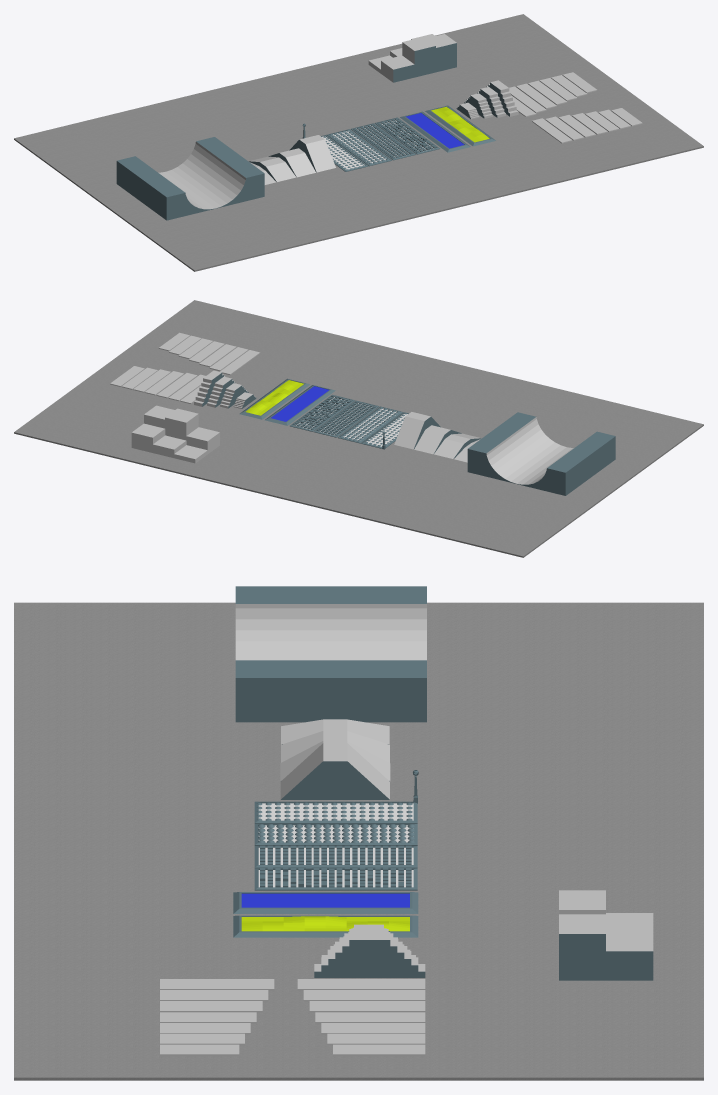
Rendered from LabTrack.fbx.
3 views of the same model, one above another, from view 1: azimuth 30°, elevation 25°; view 2: azimuth 150°, elevation 25°; view 3: azimuth 270°, elevation 25° (orthographic). The views are drawn at different scales.
Parts seen in each view (by area): view 1: floor, halfpipe, bumpyterrain_3, bumpyterrain_2, bumpyterrain4, Curb12m, 45deg_flat, Curb7m.001, longjump_7.5m, Curb6m, longjump_10m, sand (+13 smaller); view 2: floor, halfpipe, bumpyterrain4, bumpyterrain_3, bumpyterrain_2, 45deg_flat, Curb12m, longjump_10m, longjump_7.5m, sand, water, Curb7m (+16 smaller); view 3: floor, halfpipe, 45deg_flat, 1.5m_staircase, bumpyterrain4, bumpyterrain_2, bumpyterrain_1, bumpyterrain_3, Curb7m.001, longjump_5m, longjump_10m, longjump_7.5m (+13 smaller).
Part boxes in pixels (left/top/right/bottom): floor: left=14, top=14, right=703, bottom=271; halfpipe: left=116, top=137, right=264, bottom=220; bumpyterrain_3: left=351, top=123, right=416, bottom=160; bumpyterrain_2: left=327, top=129, right=392, bottom=166; bumpyterrain4: left=374, top=117, right=439, bottom=154; Curb12m: left=402, top=37, right=435, bottom=77; 45deg_flat: left=289, top=135, right=335, bottom=172; Curb7m.001: left=426, top=34, right=456, bottom=72; longjump_7.5m: left=509, top=86, right=584, bottom=140; Curb6m: left=381, top=55, right=414, bottom=82; longjump_10m: left=516, top=83, right=595, bottom=137; sand: left=431, top=106, right=489, bottom=142; floor: left=14, top=300, right=703, bottom=557; halfpipe: left=467, top=412, right=615, bottom=495; bumpyterrain4: left=290, top=394, right=355, bottom=431; bumpyterrain_3: left=313, top=400, right=379, bottom=437; bumpyterrain_2: left=337, top=406, right=402, bottom=443; 45deg_flat: left=394, top=412, right=440, bottom=449; Curb12m: left=165, top=408, right=198, bottom=440; longjump_10m: left=156, top=344, right=236, bottom=398; longjump_7.5m: left=168, top=347, right=248, bottom=400; sand: left=245, top=380, right=303, bottom=415; water: left=271, top=386, right=328, bottom=421; Curb7m: left=131, top=423, right=165, bottom=452; floor: left=14, top=602, right=703, bottom=1080; halfpipe: left=235, top=586, right=426, bottom=722; 45deg_flat: left=280, top=743, right=389, bottom=799; 1.5m_staircase: left=314, top=932, right=425, bottom=977; bumpyterrain4: left=254, top=866, right=417, bottom=890; bumpyterrain_2: left=254, top=823, right=417, bottom=845; bumpyterrain_1: left=254, top=801, right=417, bottom=823; bumpyterrain_3: left=254, top=845, right=417, bottom=868; Curb7m.001: left=559, top=914, right=605, bottom=980; longjump_5m: left=160, top=979, right=425, bottom=990; longjump_10m: left=160, top=1001, right=425, bottom=1012; longjump_7.5m: left=160, top=990, right=425, bottom=1001.
Size of the model in its own units: 479 by 33.26 by 294.
